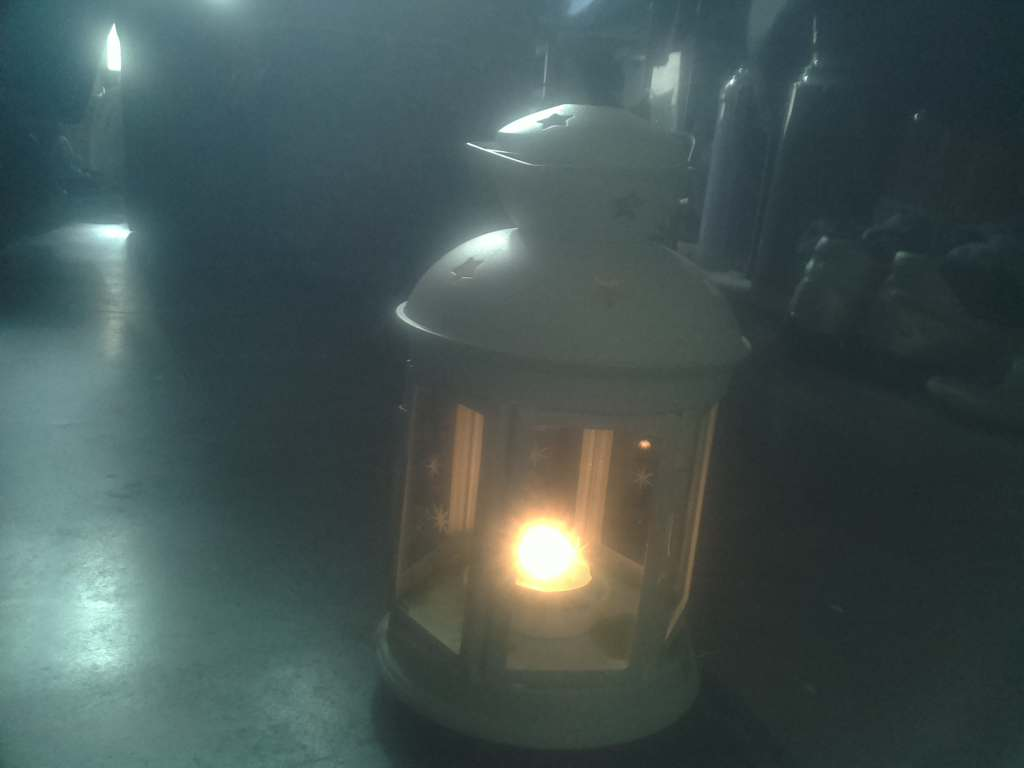fire: (492, 500, 608, 610)
